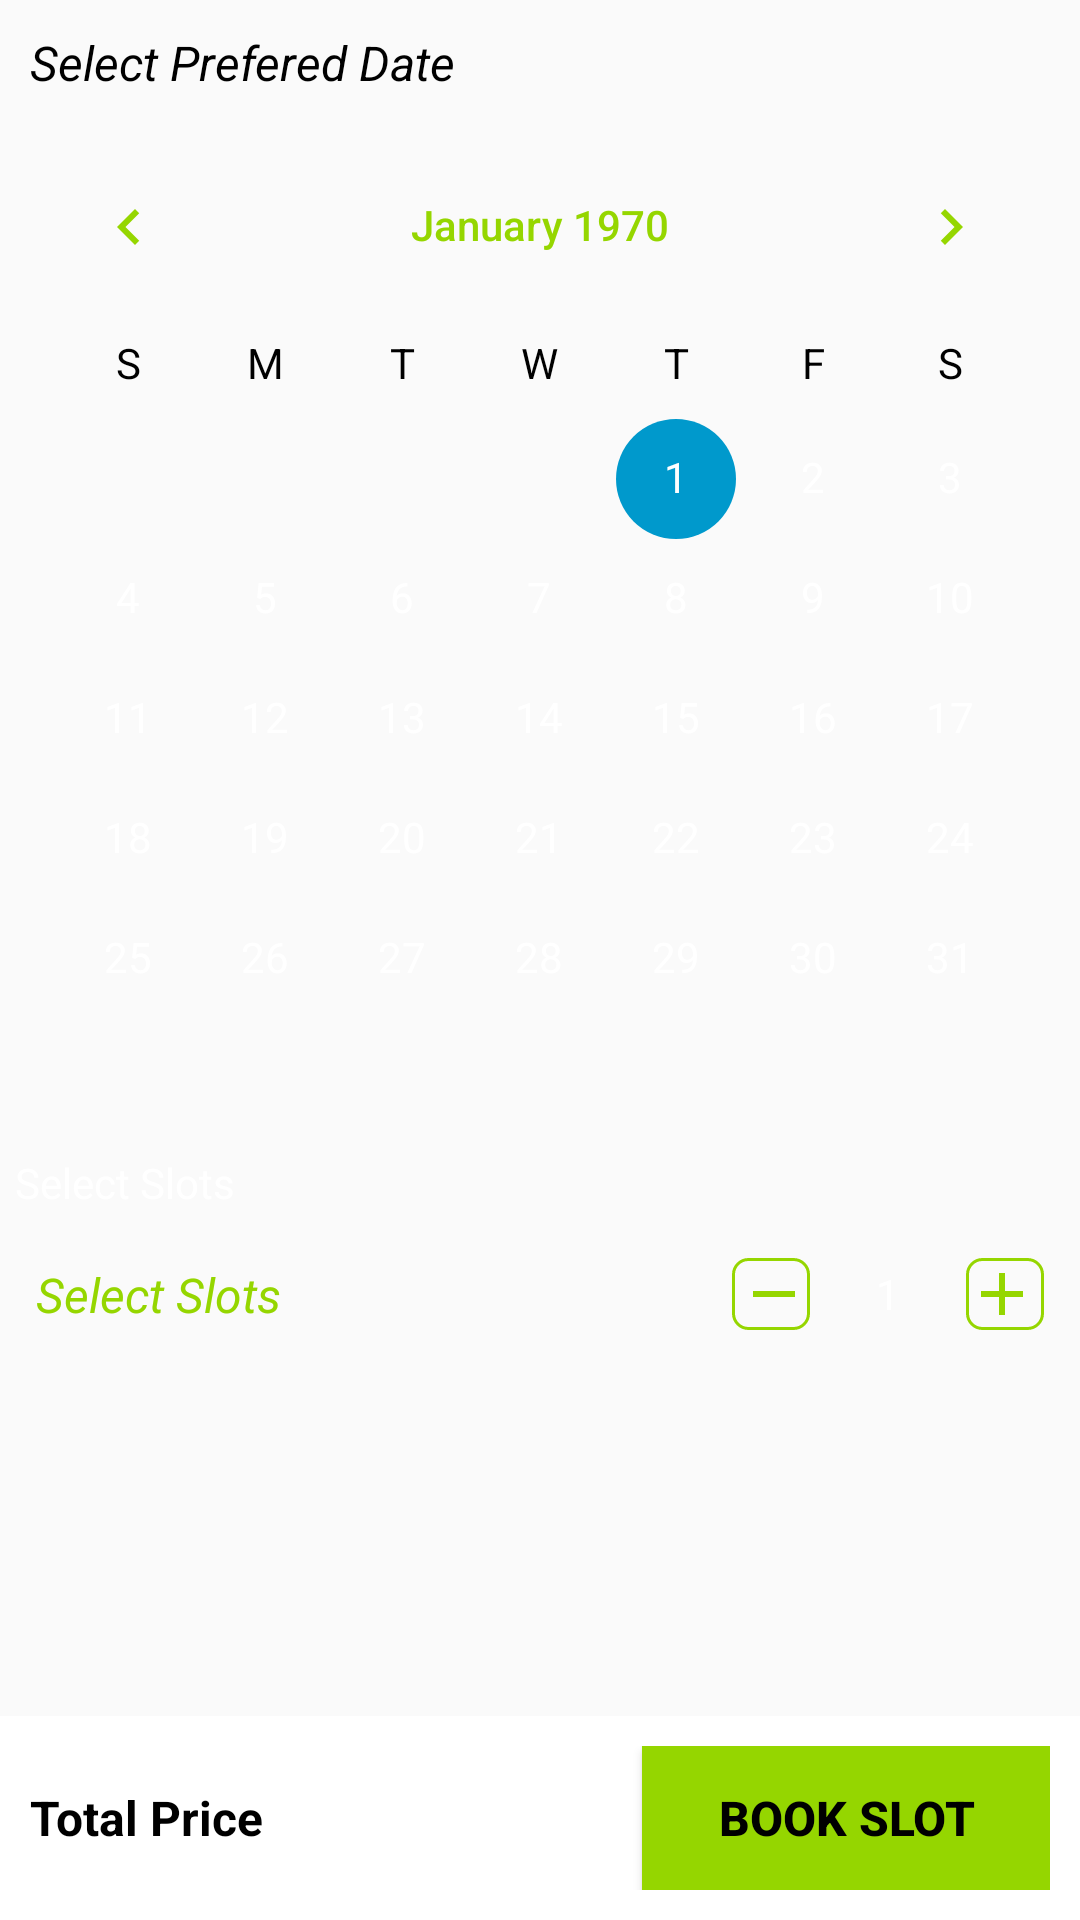

Named icons in this screenshot (1080 × 1920) and their bounding boxes, (left=x1, top=y1, right=x2, bottom=y2):
add: (left=966, top=1258, right=1044, bottom=1330)
remove: (left=732, top=1258, right=810, bottom=1330)
